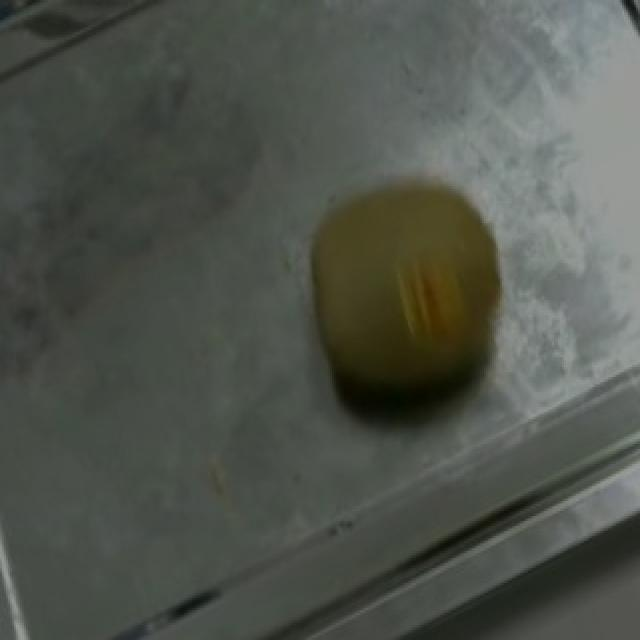Fruit: (264, 142, 548, 452)
